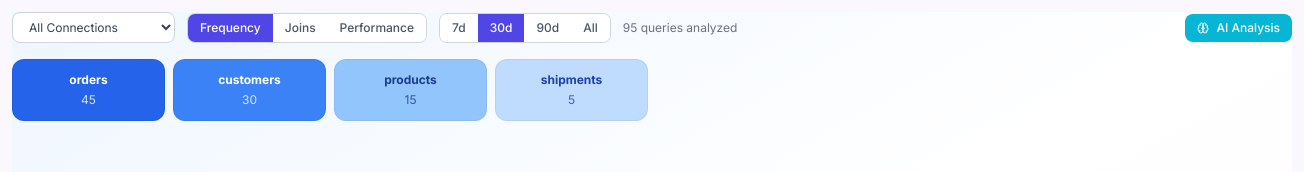
Test case: QueryPatternHeatmap › switches to joins view on toggle click
expect the text "orders" is shown: met, box 69,72 -> 108,87
Click the button "Joins": coordinates (300, 28) 273,14 -> 328,42
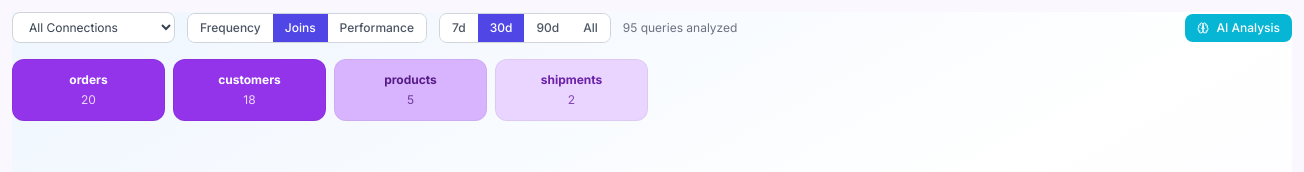
expect the text "20" is shown: met, box 81,92 -> 96,107
